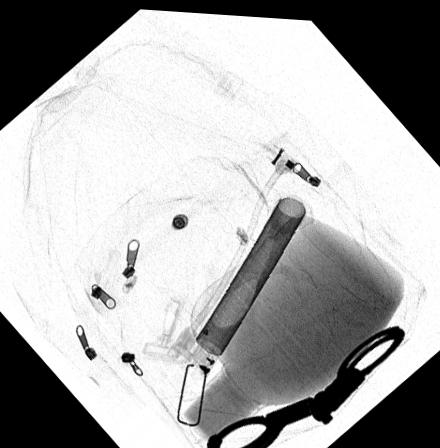HandCuffs: (206, 317, 404, 448)
